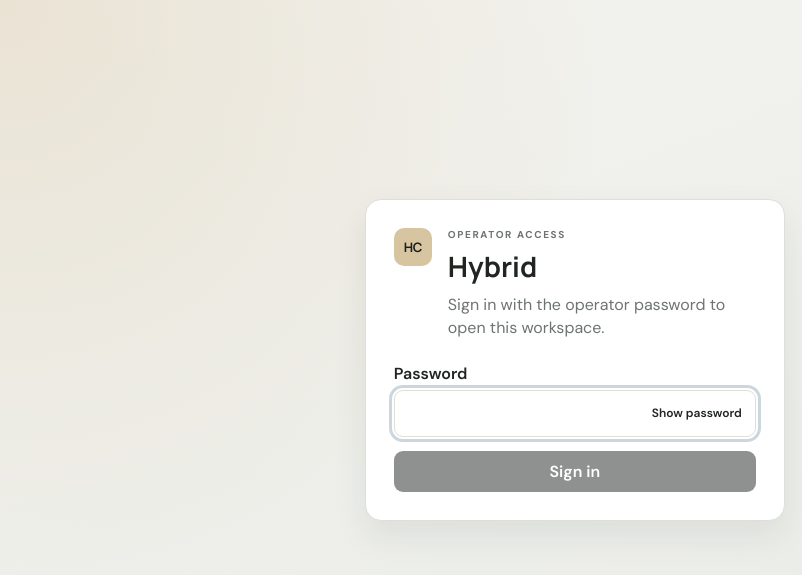
Test: LoginView › shows a generic error when sign-in fails
Type "wrong-password!!" into the password field labelled "Password" at (575,413), box [394,390,756,437]
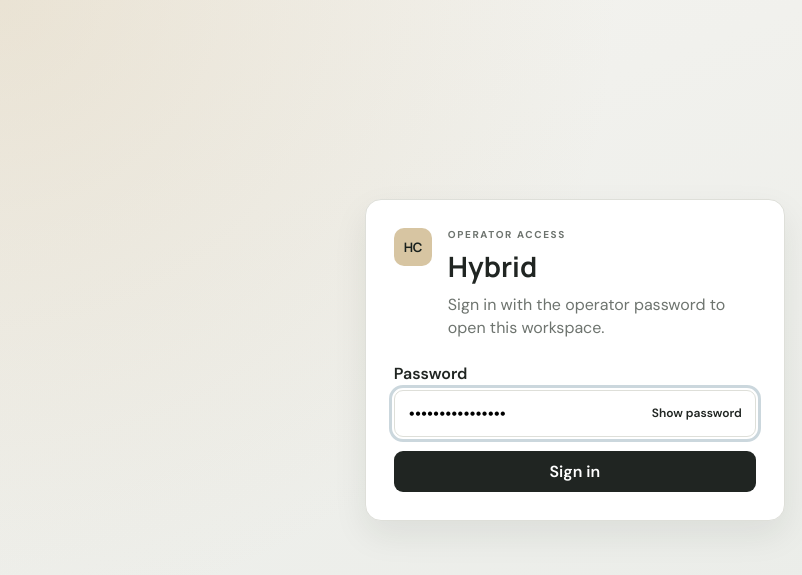
Click the button "Sign in" at (575,471), box [394,451,756,492]
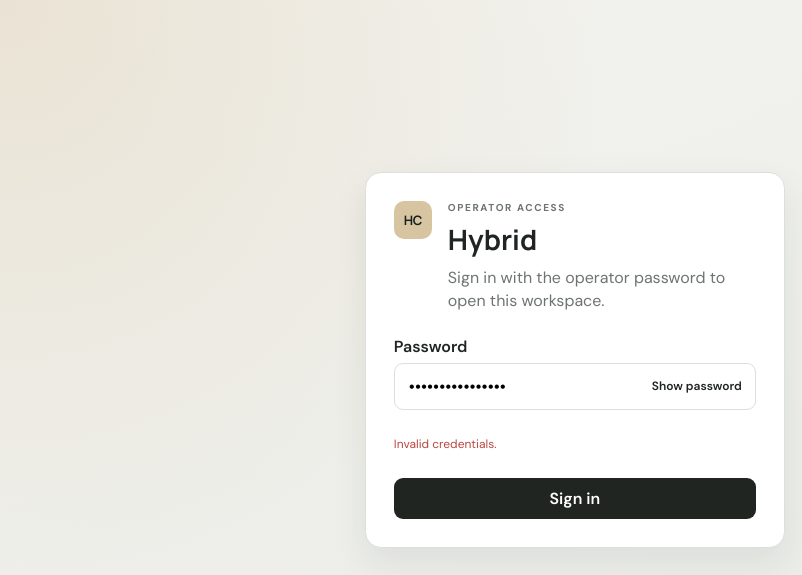
Expected: the message reads "Invalid credentials.", [394,436,496,452]
